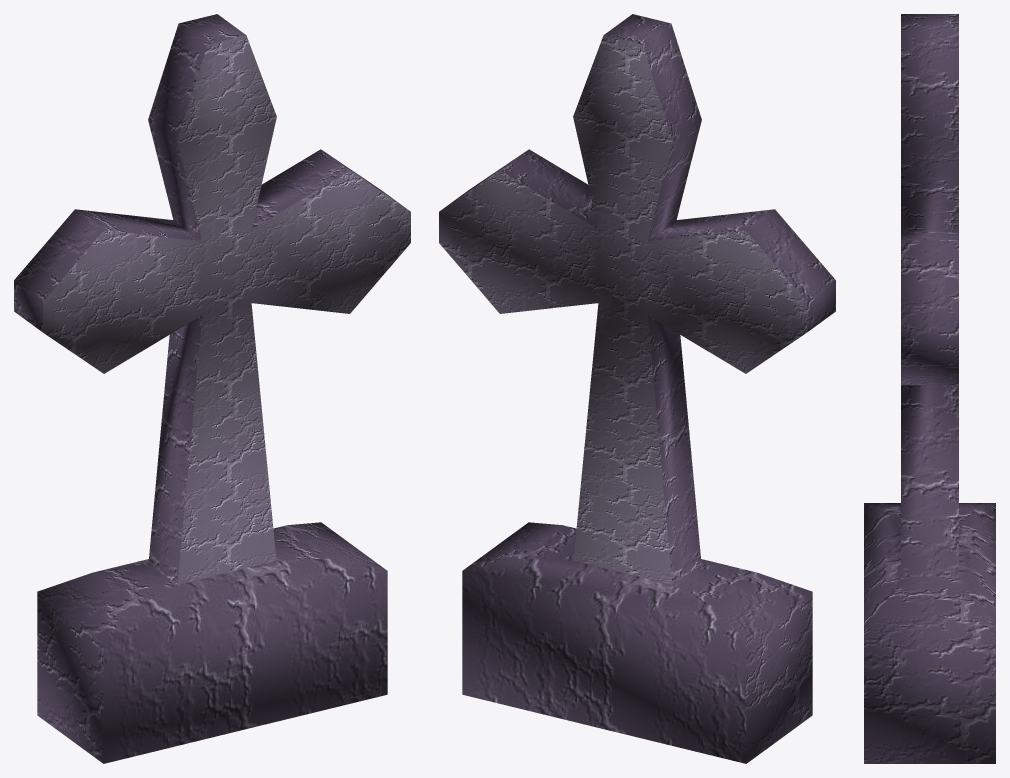
Rendered from Gravestone 3.fbx.
The picture shows the model from 3 angles, left to right: view 1: azimuth 30°, elevation 25°; view 2: azimuth 150°, elevation 25°; view 3: azimuth 270°, elevation 25°; orthographic projection.
Visible parts, largest first — view 1: Cube; view 2: Cube; view 3: Cube.
Part boxes in pixels (x1=…): Cube: x1=14, y1=14, x2=410, y2=763; Cube: x1=439, y1=14, x2=835, y2=763; Cube: x1=864, y1=14, x2=995, y2=763.
Size of the model in its own units: 0.9709 by 3.11 by 5.46.
Materials: 1 (1 with a texture image).
